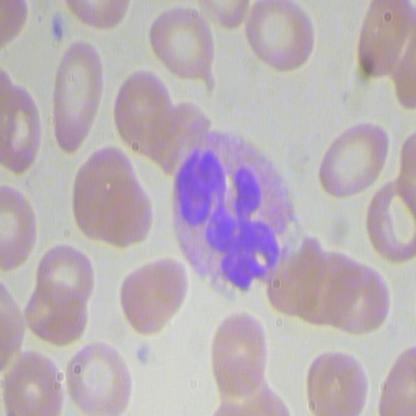Platelets: (46, 13, 70, 46)
RBC: (69, 146, 161, 254), (42, 36, 107, 153), (202, 304, 273, 403), (148, 3, 225, 93), (317, 111, 394, 201), (114, 250, 191, 340), (107, 67, 177, 160), (61, 335, 138, 415), (242, 1, 317, 72), (32, 237, 101, 312), (303, 344, 374, 415), (362, 175, 415, 266)
WBC: (164, 124, 303, 304)
